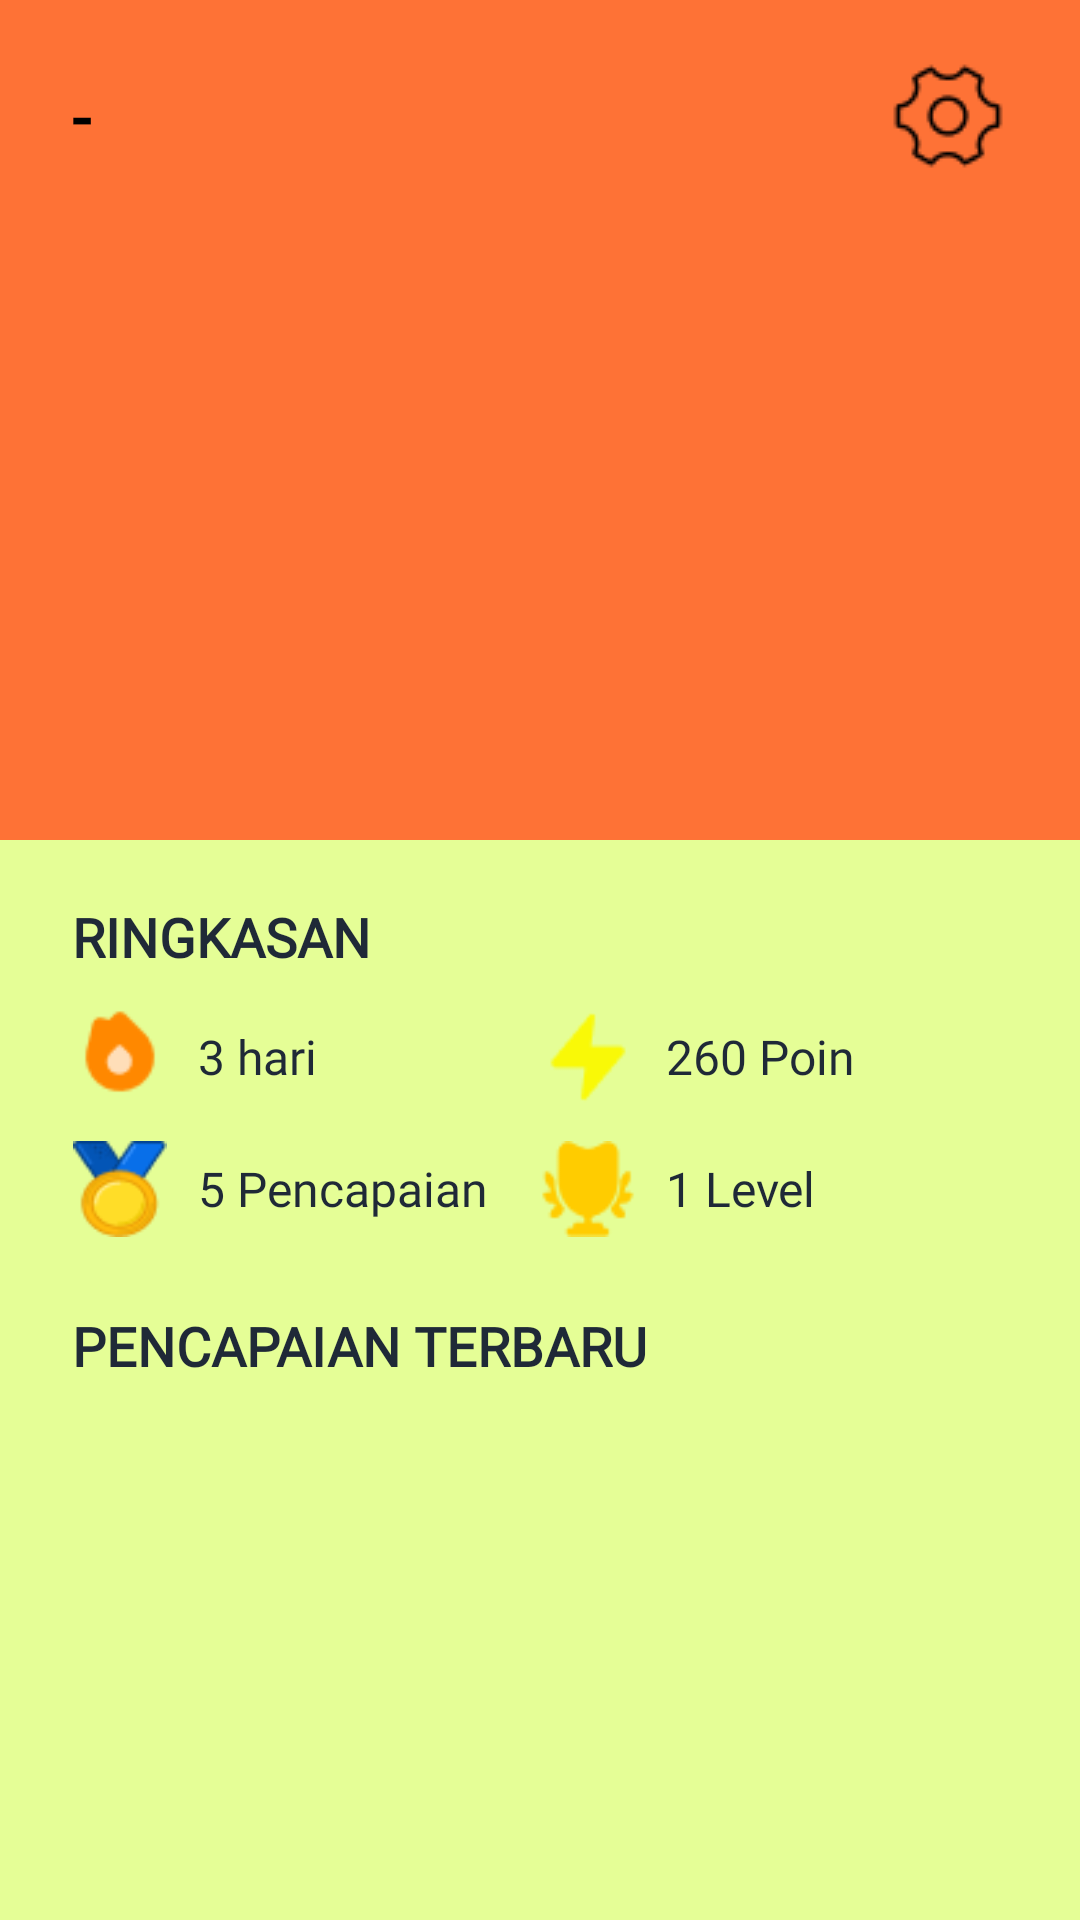

Screen size 1080x1920. Icon name, then its box in pixels as rect(x1, y1, x2, y2):
medal: rect(73, 1141, 167, 1237)
Pengaturan: rect(893, 64, 1003, 168)
points: rect(550, 1014, 626, 1100)
streak: rect(85, 1011, 155, 1092)
trophy: rect(542, 1141, 634, 1237)
